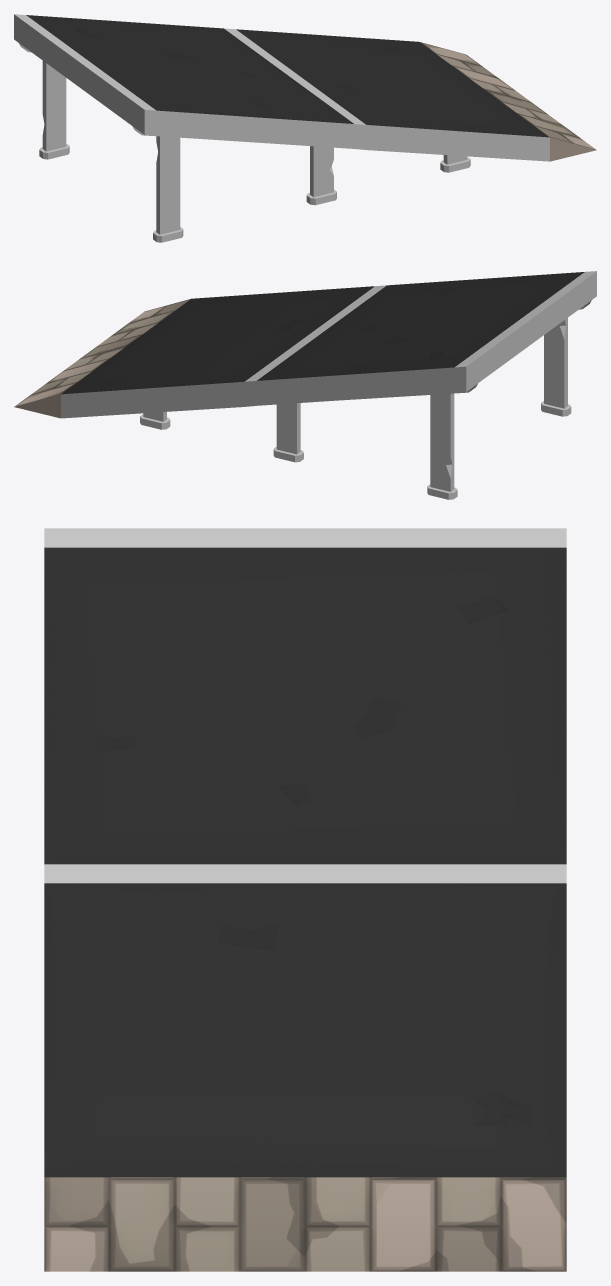
Rendered from SM_Bld_Ramp_01.fbx.
The picture shows the model from 3 angles, top to bottom: view 1: azimuth 30°, elevation 25°; view 2: azimuth 150°, elevation 25°; view 3: azimuth 270°, elevation 25°; orthographic projection. The views are drawn at different scales.
Parts seen in each view (by area): view 1: SM_Bld_Ramp_01; view 2: SM_Bld_Ramp_01; view 3: SM_Bld_Ramp_01.
Boxes of the visible parts, box(x1,y1,x2,y2) form: SM_Bld_Ramp_01: box(14, 14, 596, 242); SM_Bld_Ramp_01: box(14, 271, 596, 499); SM_Bld_Ramp_01: box(44, 528, 566, 1271).
Bounding box in the file's own units: 500 × 161 × 250.
